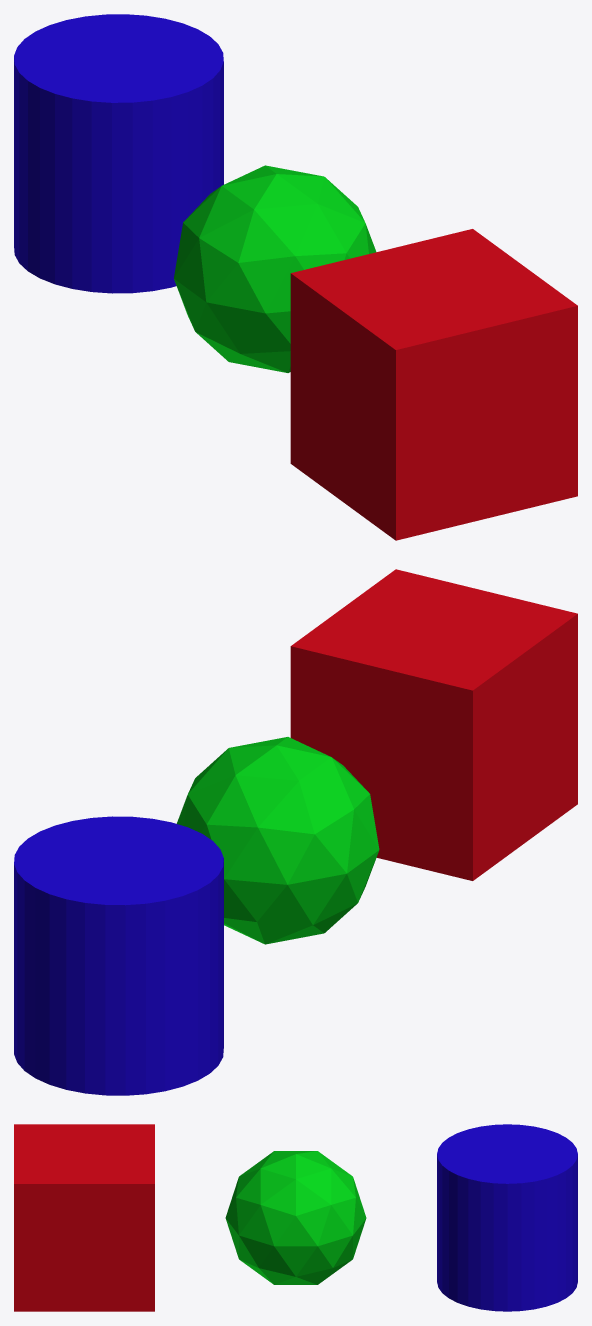
The model's file is CubeSphereCylinder.dae.
3 renders of one model, top to bottom at view 1: azimuth 30°, elevation 25°; view 2: azimuth 150°, elevation 25°; view 3: azimuth 270°, elevation 25°, orthographic. The views are drawn at different scales.
Visible parts, largest first — view 1: Cube, Cylinder, Icosphere; view 2: Cube, Cylinder, Icosphere; view 3: Cube, Cylinder, Icosphere.
Part boxes in pixels (left/top/right/bottom): Cube: left=290, top=229, right=577, bottom=540; Cylinder: left=14, top=14, right=223, bottom=293; Icosphere: left=174, top=165, right=376, bottom=372; Cube: left=290, top=569, right=577, bottom=880; Cylinder: left=14, top=816, right=223, bottom=1095; Icosphere: left=176, top=737, right=379, bottom=944; Cube: left=14, top=1124, right=154, bottom=1311; Cylinder: left=437, top=1124, right=577, bottom=1311; Icosphere: left=225, top=1151, right=366, bottom=1284.
Bounding box in the file's own units: 2 × 8 × 2.
